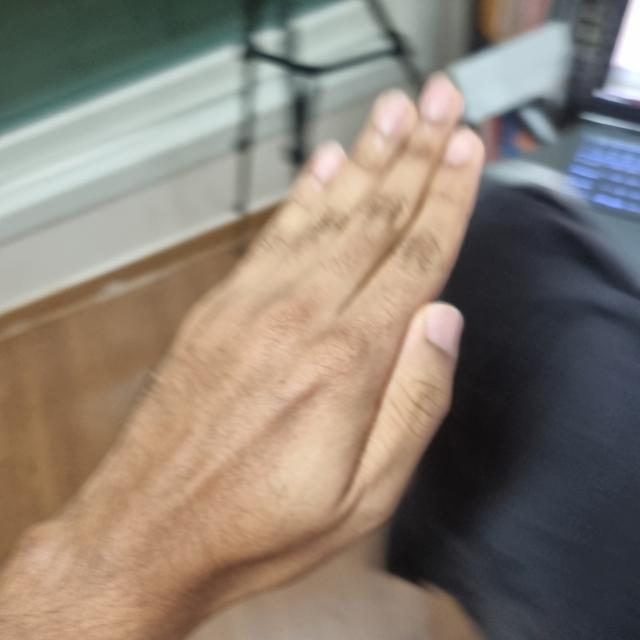Paper: (92, 81, 483, 607)
